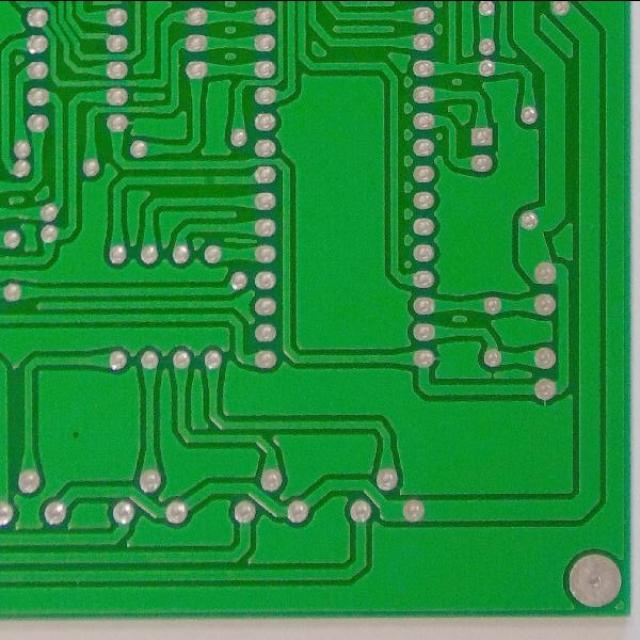spurious_copper: (218, 230, 259, 252)
